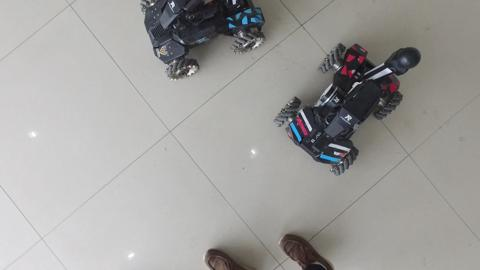chariot: (265, 36, 432, 181), (132, 1, 271, 86)
